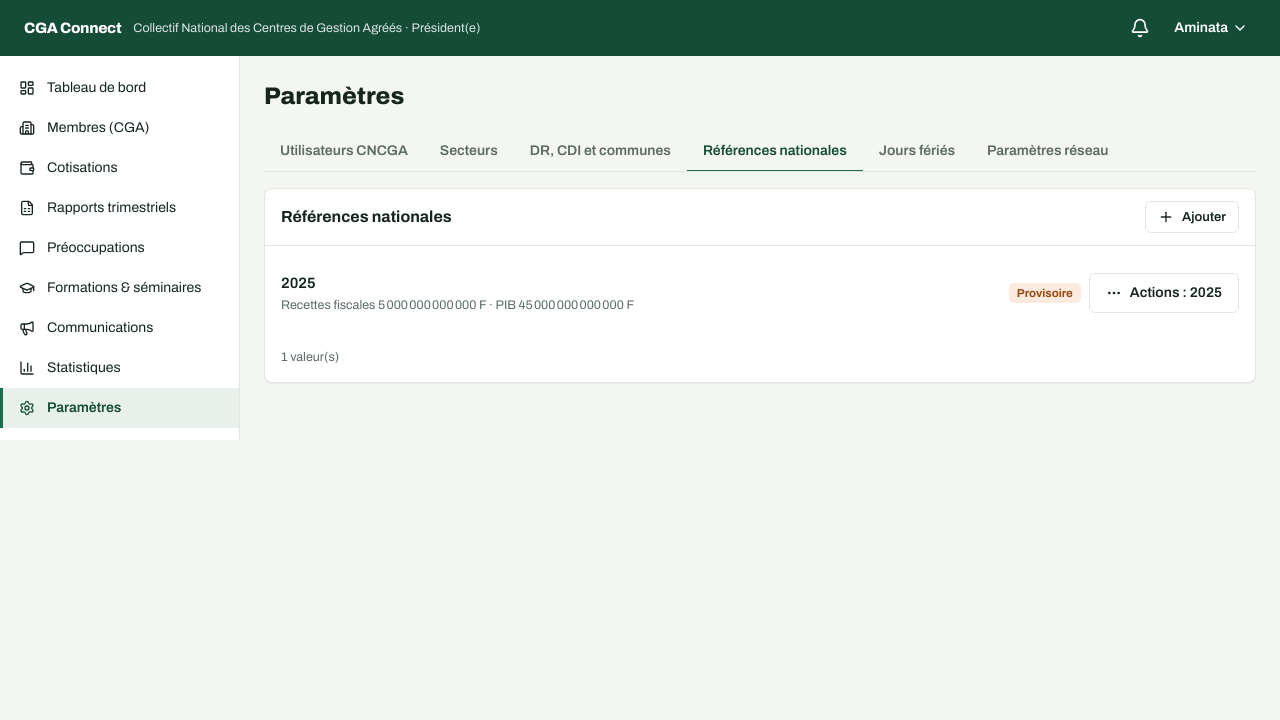
Test case: /cncga/parametres · Références nationales et jours fériés (F-REF-03, 04) › références nationales : sans recherche ; année exigée, montants entiers, puis l’année ajoutée
Expected: the text "2025" is shown, 281,275 -> 316,291
Click the button "Ajouter".
click(1192, 217)  # box 1145,201 -> 1239,233
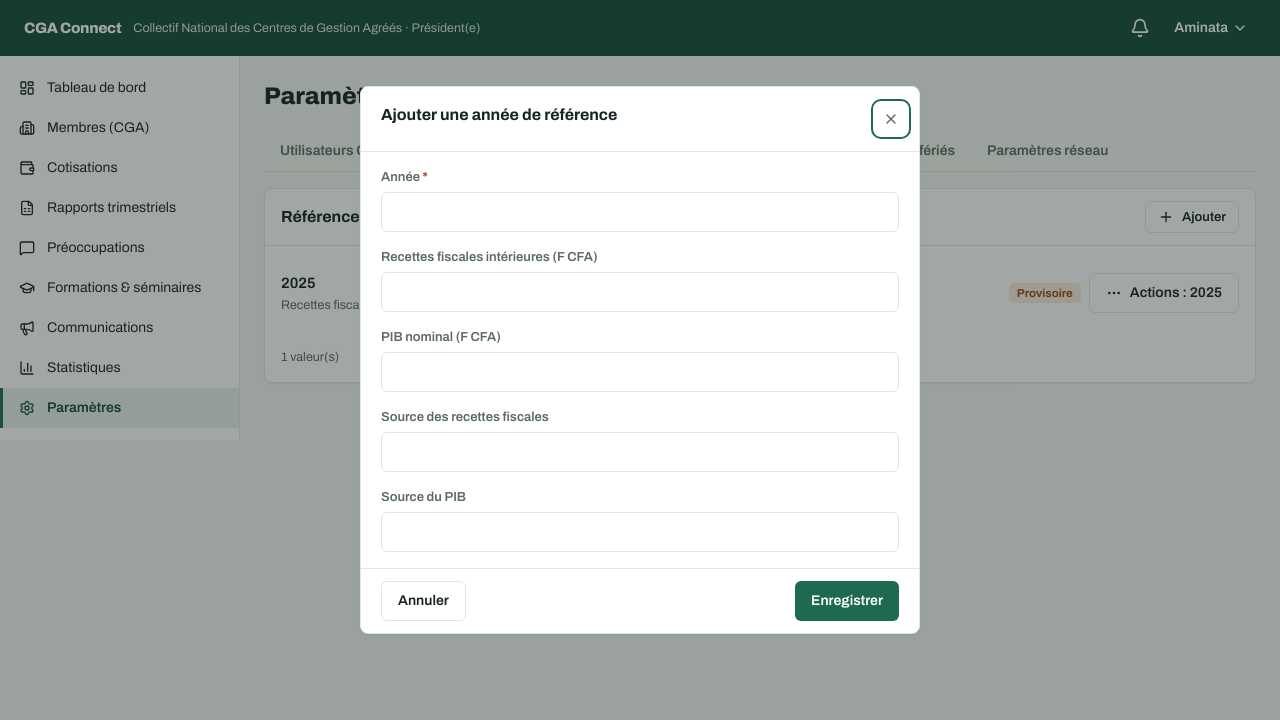
Type "5,2 milliards" into the field labelled "Recettes fiscales intérieures (F CFA)".
click(640, 292); type("5,2 milliards")  # box 381,272 -> 899,312
Click the button "Enregistrer".
click(847, 601)  # box 795,581 -> 899,621
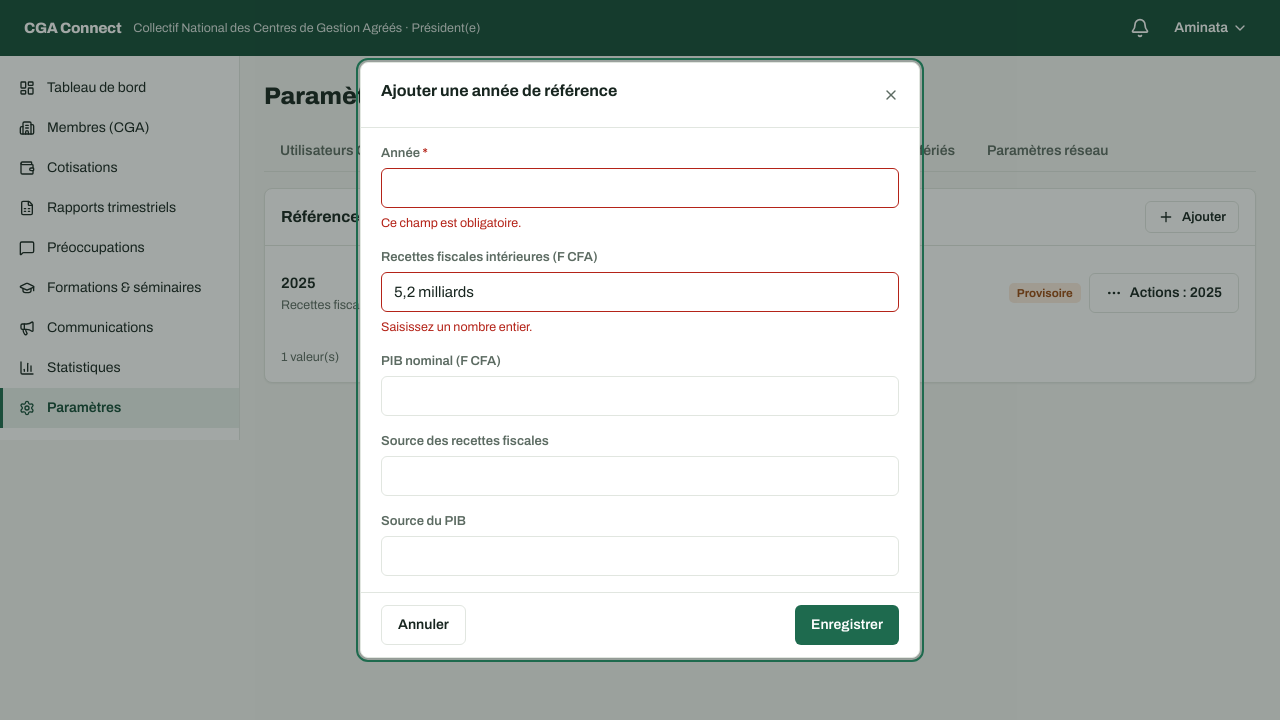
Type "2026" into the field labelled "Année *".
click(640, 188); type("2026")  # box 381,168 -> 899,208
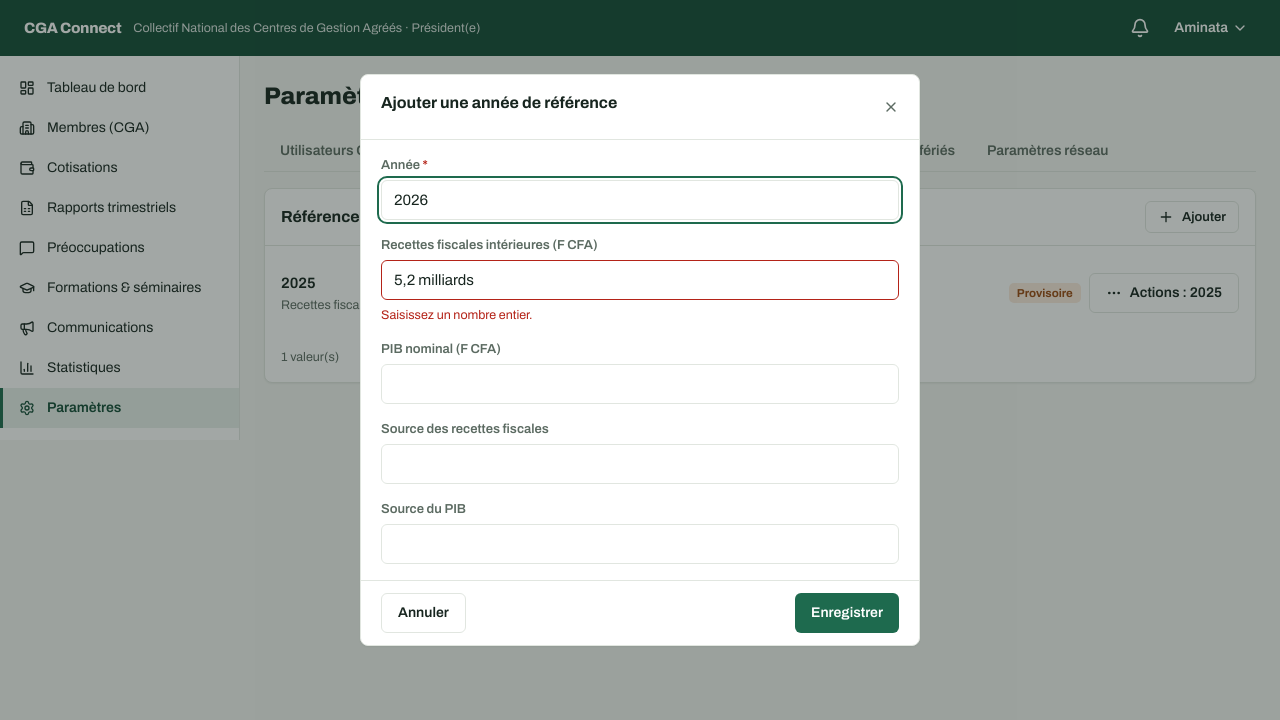
Clear the field labelled "Recettes fiscales intérieures (F CFA)" at (640, 280), box 381,260 -> 899,300
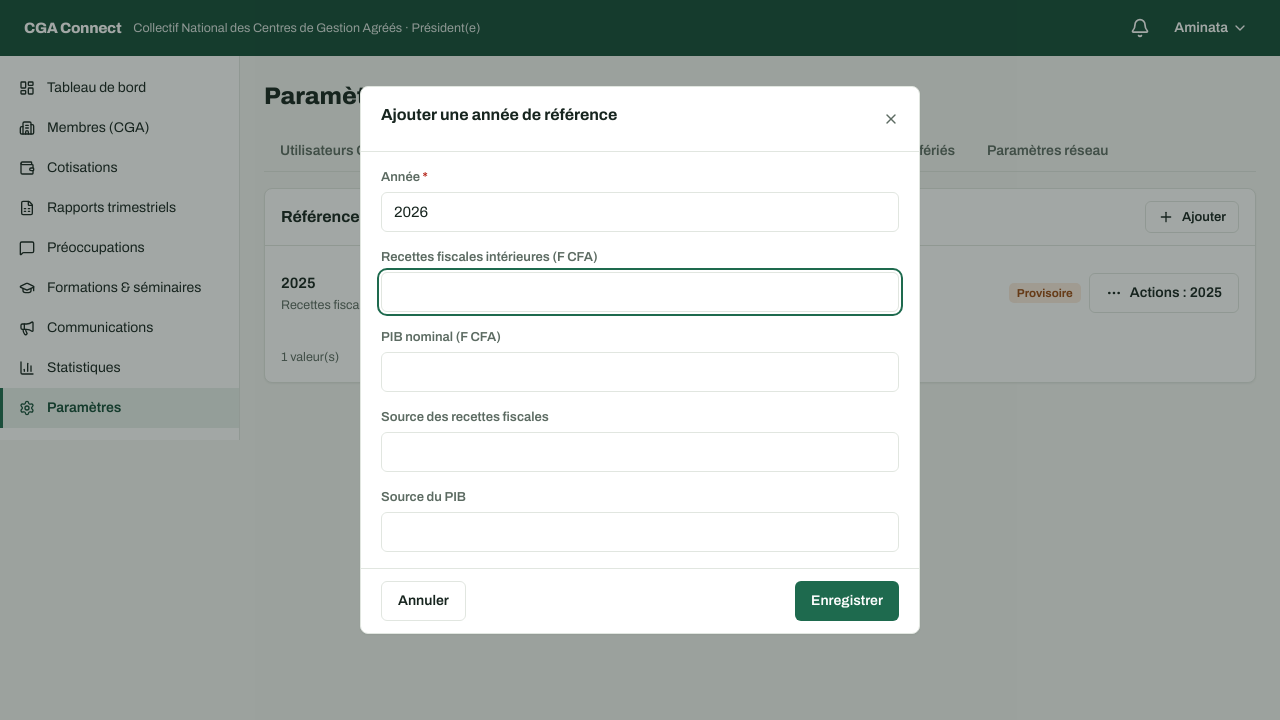
Type "5200000000000" into the field labelled "Recettes fiscales intérieures (F CFA)".
click(640, 292); type("5200000000000")  # box 381,272 -> 899,312
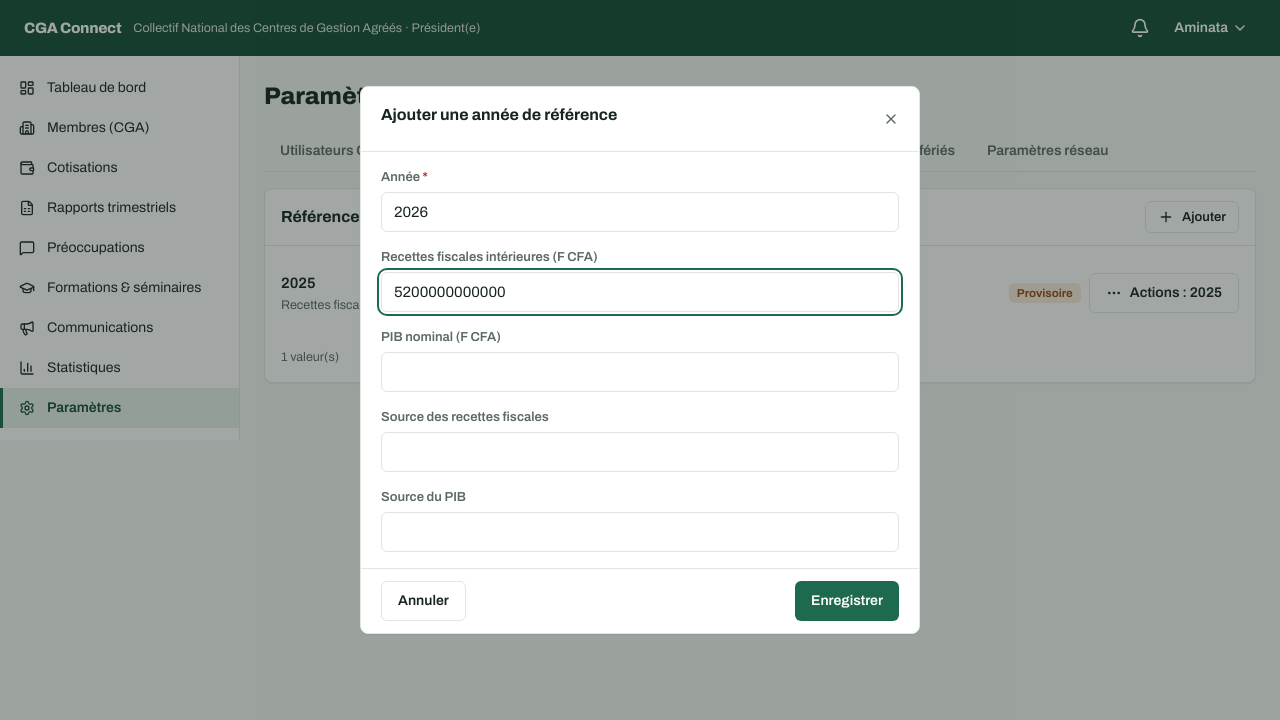
Click the button "Enregistrer".
click(847, 601)  # box 795,581 -> 899,621
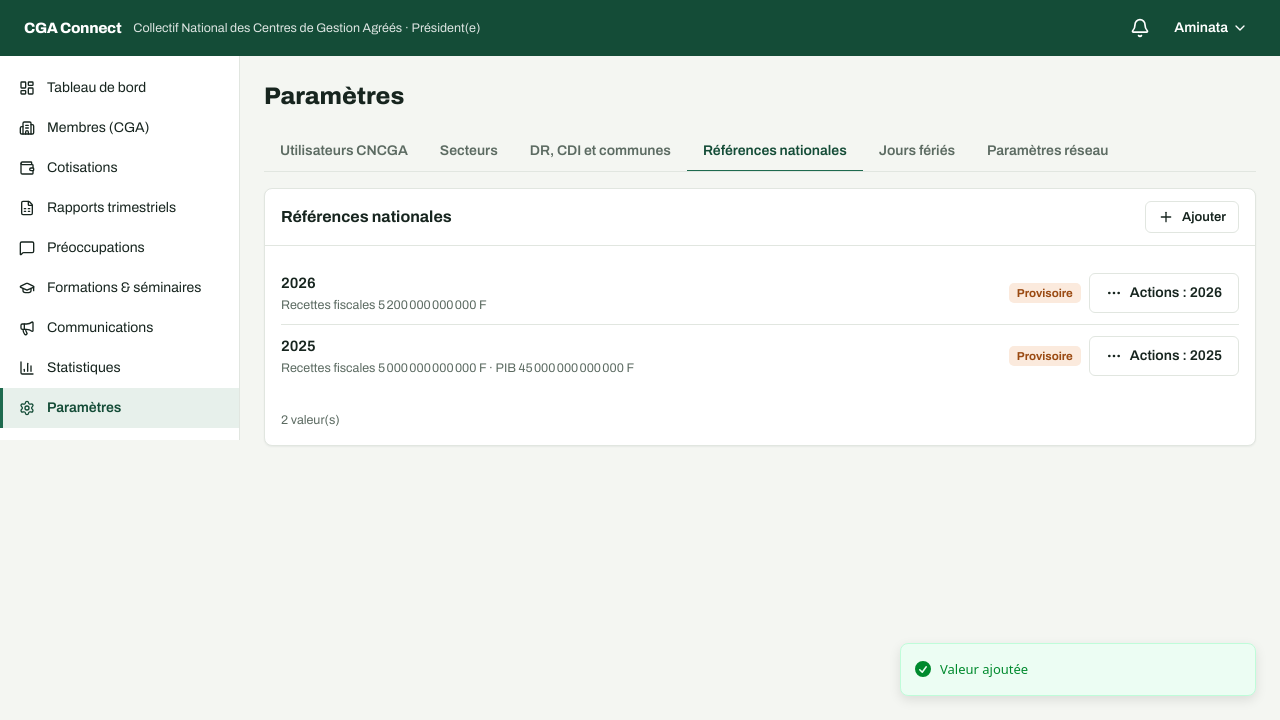
Expected: the text "2026" is shown, 281,275 -> 316,291
